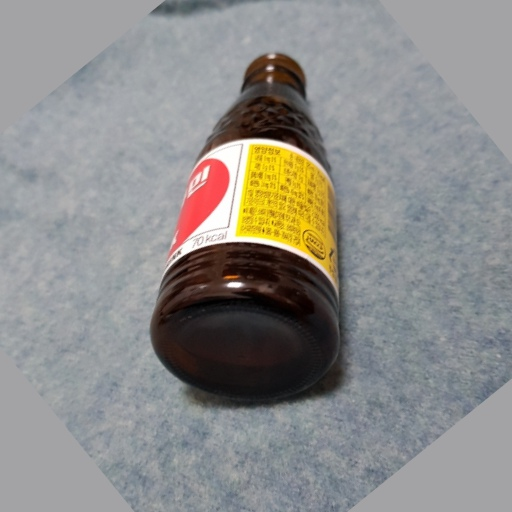Glass_3: (151, 51, 346, 401)
